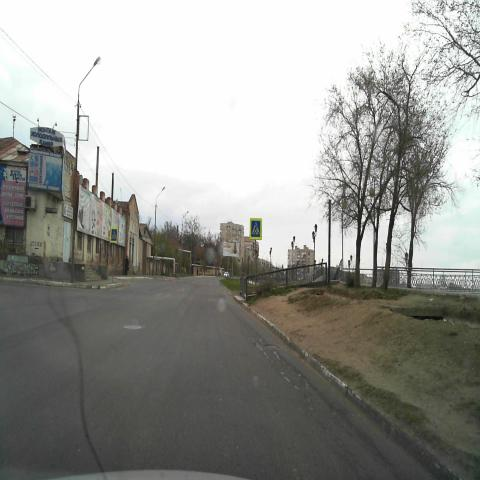5_19_1: (250, 218, 261, 238), (110, 228, 118, 241)
